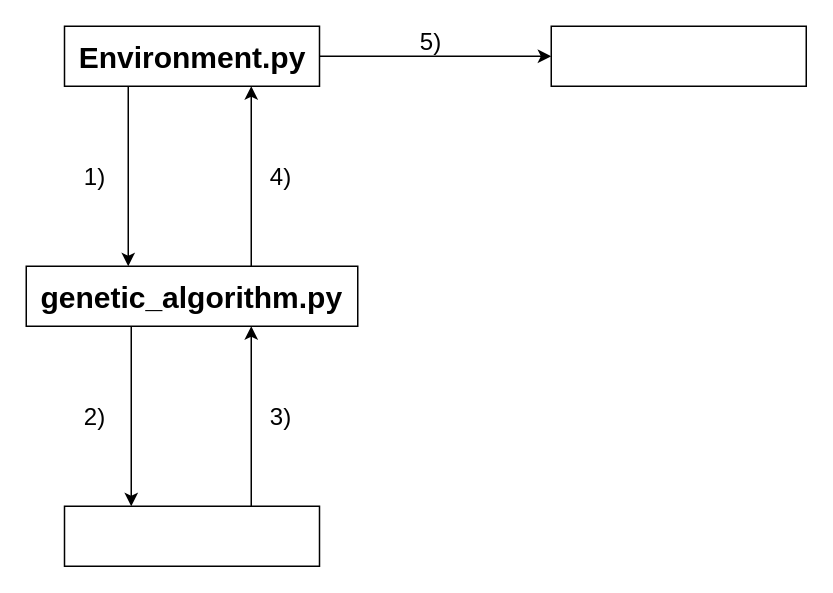
Some shapes in this 833 by 593 pixel diagram are drawn without their labels. The shapes that lost their labels are listed below. From the top down, each one's box as (x1, y1, x2, y2) in pixels, then its label:
(550, 25, 806, 86): Player.py
(63, 505, 320, 566): Agent.py
